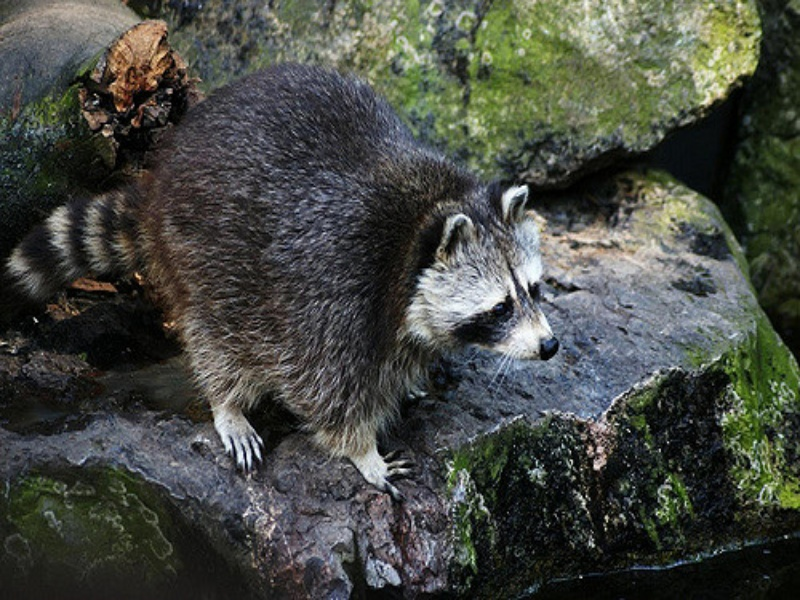raccoon: (19, 58, 564, 506)
